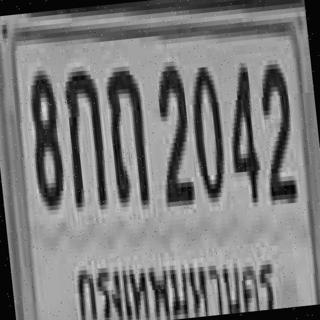A01: (60, 65, 107, 208)
A22: (102, 61, 150, 203)
N00: (186, 62, 226, 199)
N02: (150, 61, 194, 202), (255, 59, 297, 201)
N04: (222, 58, 261, 200)
N08: (24, 65, 64, 207)
P04: (65, 225, 280, 320)
